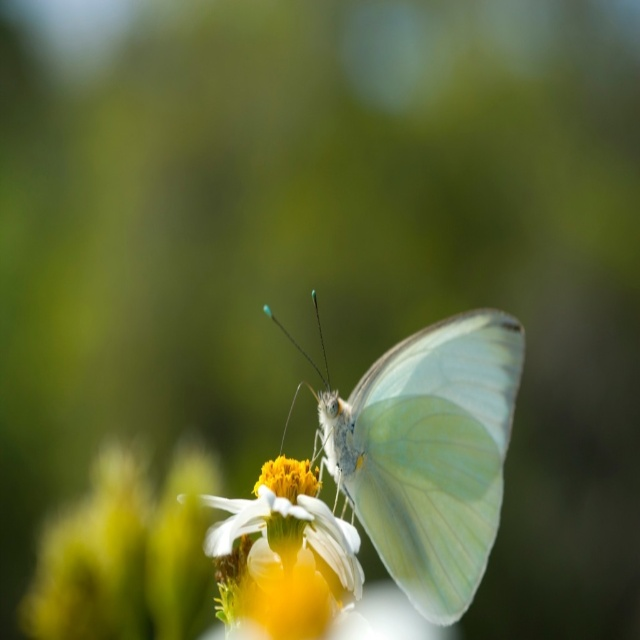Butterfly: (263, 290, 526, 627)
